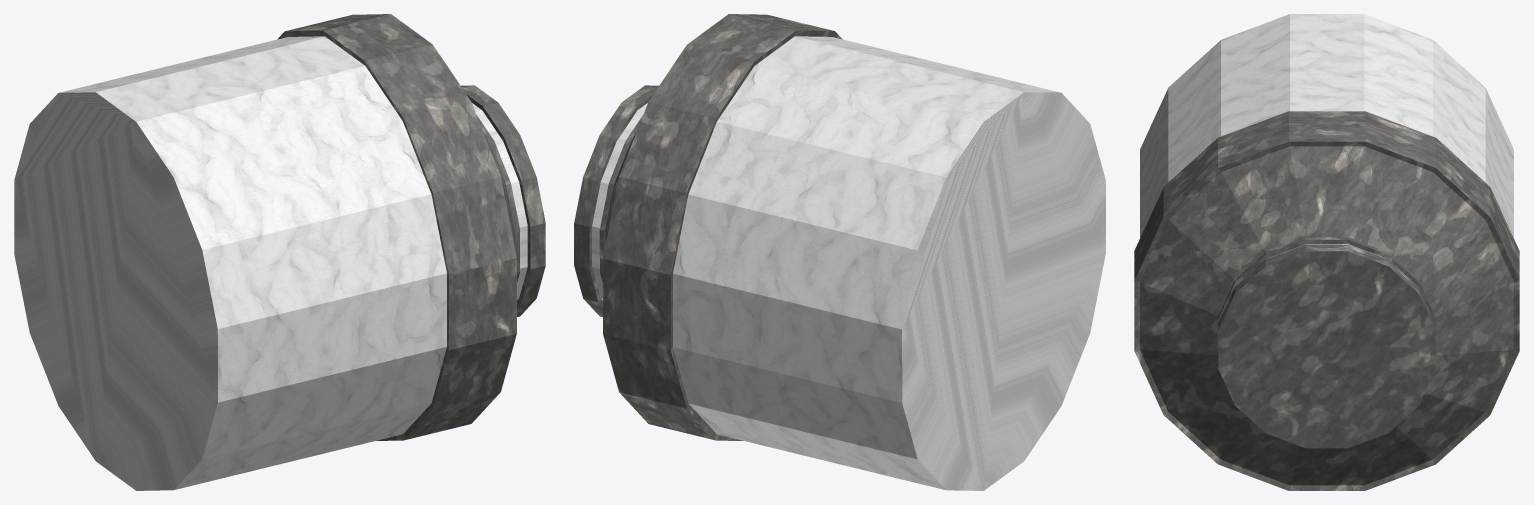
The model's file is Module-2.glb.
The picture shows the model from 3 angles, left to right: view 1: azimuth 30°, elevation 25°; view 2: azimuth 150°, elevation 25°; view 3: azimuth 270°, elevation 25°; orthographic projection. The views are drawn at different scales.
Visible parts, largest first — view 1: Hull, Protection; view 2: Hull, Protection; view 3: Protection, Hull.
Boxes of the visible parts, x1,y1,x2,y2 form: Hull: (14,36,527,490); Protection: (278,14,545,440); Hull: (592,36,1105,490); Protection: (574,14,842,440); Protection: (1134,111,1519,490); Hull: (1140,14,1513,258).
Size of the model in its own units: 12 by 11.76 by 11.76.
2 materials, 2 textured.
